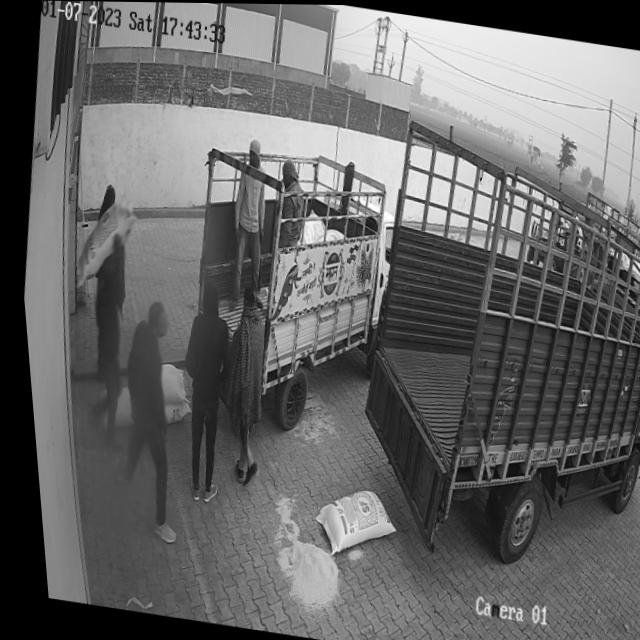sack: (300, 481, 393, 565), (65, 199, 137, 294)
